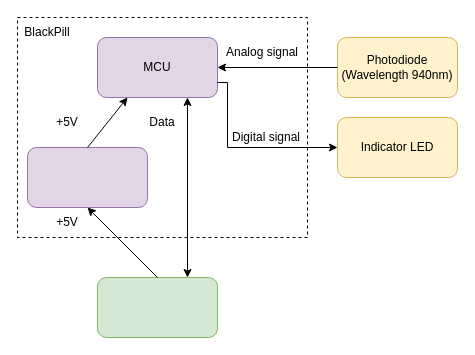
Some shapes in this 475 by 355 pixel diagram are drawn without their labels. The shapes that lost their labels are listed below. From the top down, each one's centre as x and y in pixels, then its label:
At pixel 87 177: "Power section".
At pixel 157 307: "PC".
